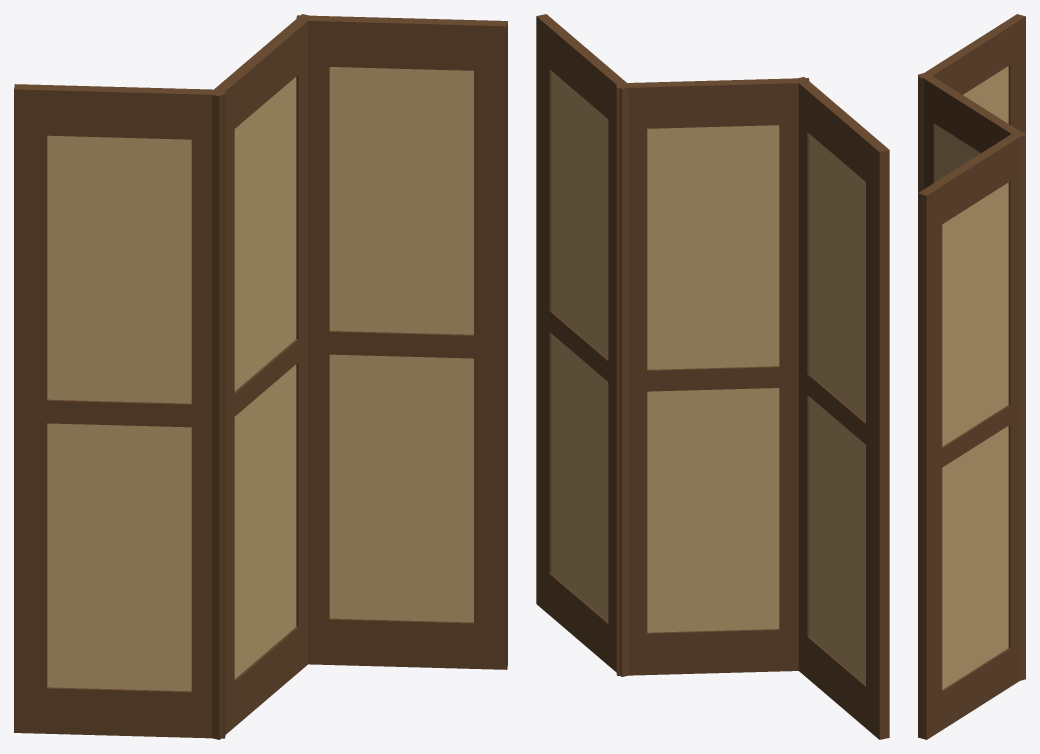
Rendered from FN_Screen_Folding.obj.
3 views of the same model, side by side, from view 1: azimuth 30°, elevation 25°; view 2: azimuth 150°, elevation 25°; view 3: azimuth 270°, elevation 25° (orthographic). The views are drawn at different scales.
Parts seen in each view (by area): view 1: FN_Screen_Folding; view 2: FN_Screen_Folding; view 3: FN_Screen_Folding.
Boxes of the visible parts, box(x1,y1,x2,y2) form: FN_Screen_Folding: box(14, 14, 507, 739); FN_Screen_Folding: box(536, 14, 889, 739); FN_Screen_Folding: box(918, 14, 1025, 739).
Bounding box in the file's own units: 1.22 × 1.7 × 0.3058.
1 material, 1 textured.
